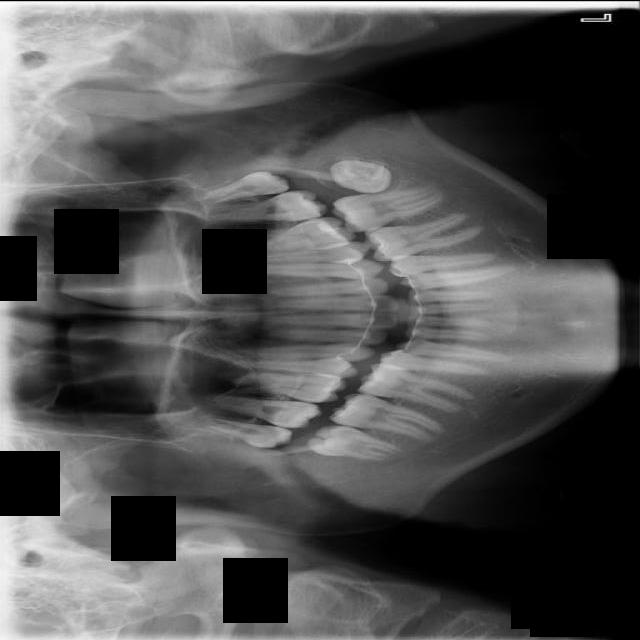3M ESPE Implant: (196, 415, 294, 451)
73: (585, 50, 599, 57)
BioHorizons Implant: (205, 187, 328, 226)
BioLife Implant: (196, 166, 292, 206)
Biomet 3i Implant: (332, 158, 392, 193)
Blue Sky Bio Implant: (329, 182, 448, 236)
Caries: (202, 391, 323, 431)
Implant: (327, 386, 447, 443)
Keystone Dental Implant: (304, 421, 404, 463)
